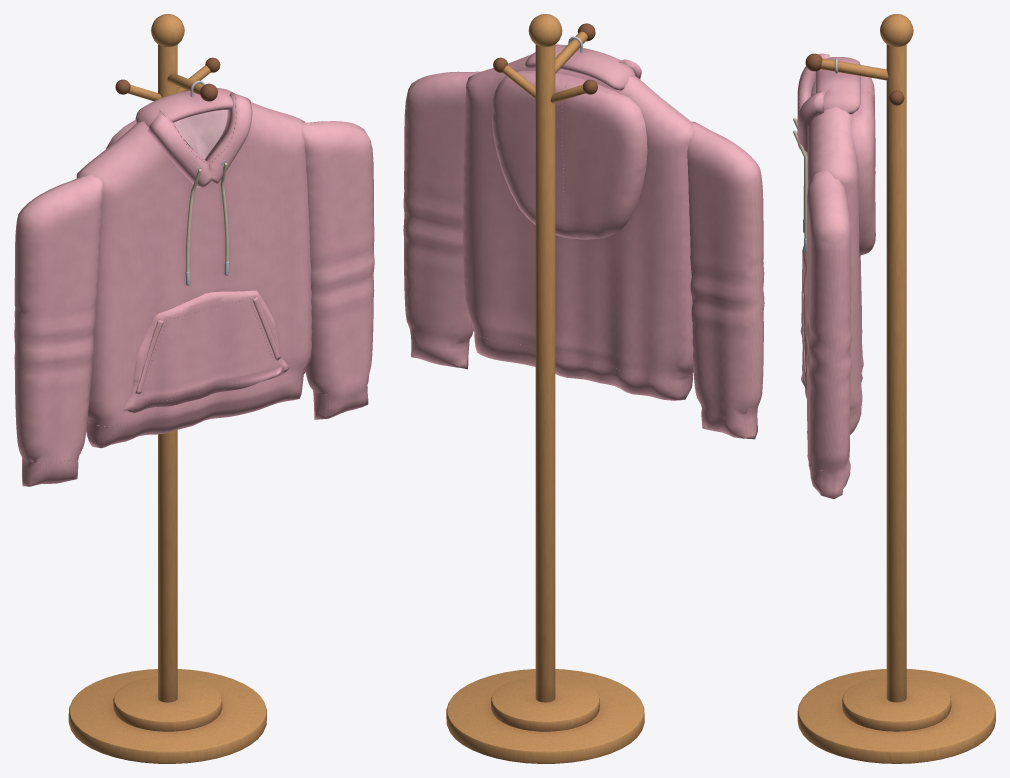
The model's file is hoodie.glb.
3 renders of one model, left to right at view 1: azimuth 30°, elevation 25°; view 2: azimuth 150°, elevation 25°; view 3: azimuth 270°, elevation 25°, orthographic.
Visible parts, largest first — view 1: hoodie_body; view 2: hoodie_body; view 3: hoodie_body.
Boxes of the visible parts, <box> form: hoodie_body: <box>14,14,374,763</box>; hoodie_body: <box>403,14,764,763</box>; hoodie_body: <box>793,14,995,763</box>.
Bounding box in the file's own units: 0.8278 × 1.57 × 0.409.
Materials: 1 (1 with a texture image).
